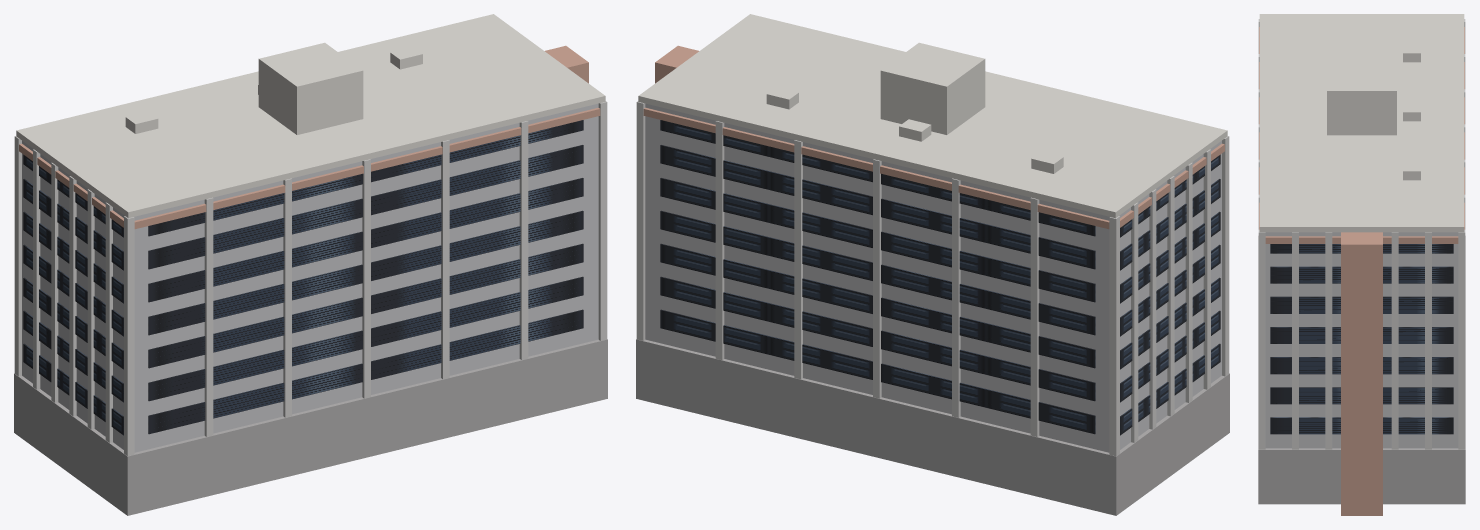
The model's file is skyline-tower-midrise30-tank.glb.
3 renders of one model, left to right at view 1: azimuth 30°, elevation 25°; view 2: azimuth 150°, elevation 25°; view 3: azimuth 270°, elevation 25°, orthographic. The views are drawn at different scales.
Parts seen in each view (by area): view 1: windows, body-1, parapet, podium, pilasters, roof-detail, crown-band, core; view 2: windows, body-1, parapet, podium, pilasters, roof-detail, crown-band, core; view 3: parapet, body-1, windows, core, pilasters, podium, roof-detail, crown-band.
Part boxes in pixels (bbox=[...]): windows: bbox=[23, 120, 583, 435]; body-1: bbox=[22, 103, 598, 452]; parapet: bbox=[16, 14, 605, 218]; podium: bbox=[14, 339, 607, 515]; pilasters: bbox=[14, 101, 607, 456]; roof-detail: bbox=[125, 42, 422, 134]; crown-band: bbox=[19, 107, 600, 229]; core: bbox=[545, 45, 588, 83]; windows: bbox=[660, 120, 1220, 435]; body-1: bbox=[645, 103, 1221, 452]; parapet: bbox=[638, 14, 1227, 218]; podium: bbox=[636, 339, 1229, 515]; pilasters: bbox=[636, 101, 1229, 456]; roof-detail: bbox=[766, 42, 1063, 173]; crown-band: bbox=[643, 107, 1224, 229]; core: bbox=[655, 45, 698, 83]; parapet: bbox=[1259, 14, 1464, 232]; body-1: bbox=[1265, 232, 1458, 448]; windows: bbox=[1270, 244, 1453, 434]; core: bbox=[1341, 232, 1382, 515]; pilasters: bbox=[1258, 19, 1465, 449]; podium: bbox=[1258, 236, 1465, 504]; roof-detail: bbox=[1327, 43, 1420, 180]; crown-band: bbox=[1259, 27, 1464, 243].
Size of the model in its own units: 53.6 by 35.5 by 20.8.
6 materials, 1 textured.
